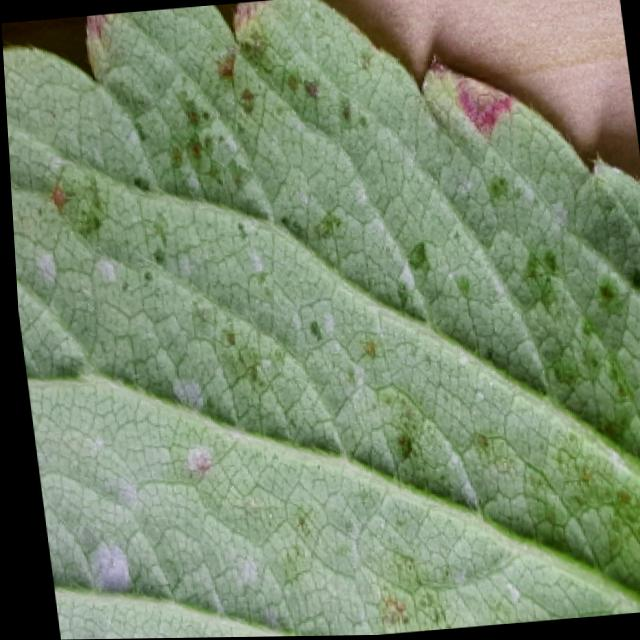Angular Leafspot: (3, 0, 640, 637)
